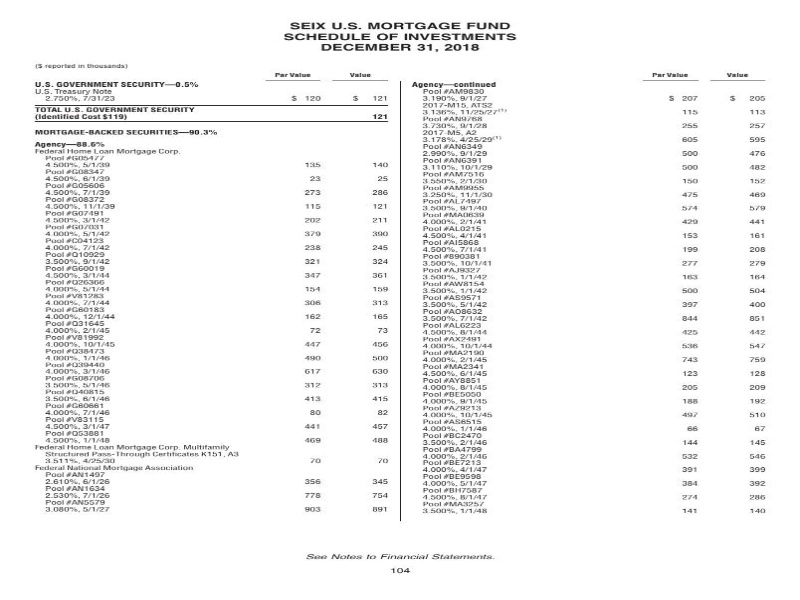table: (25, 58, 408, 530), (395, 74, 783, 525)
